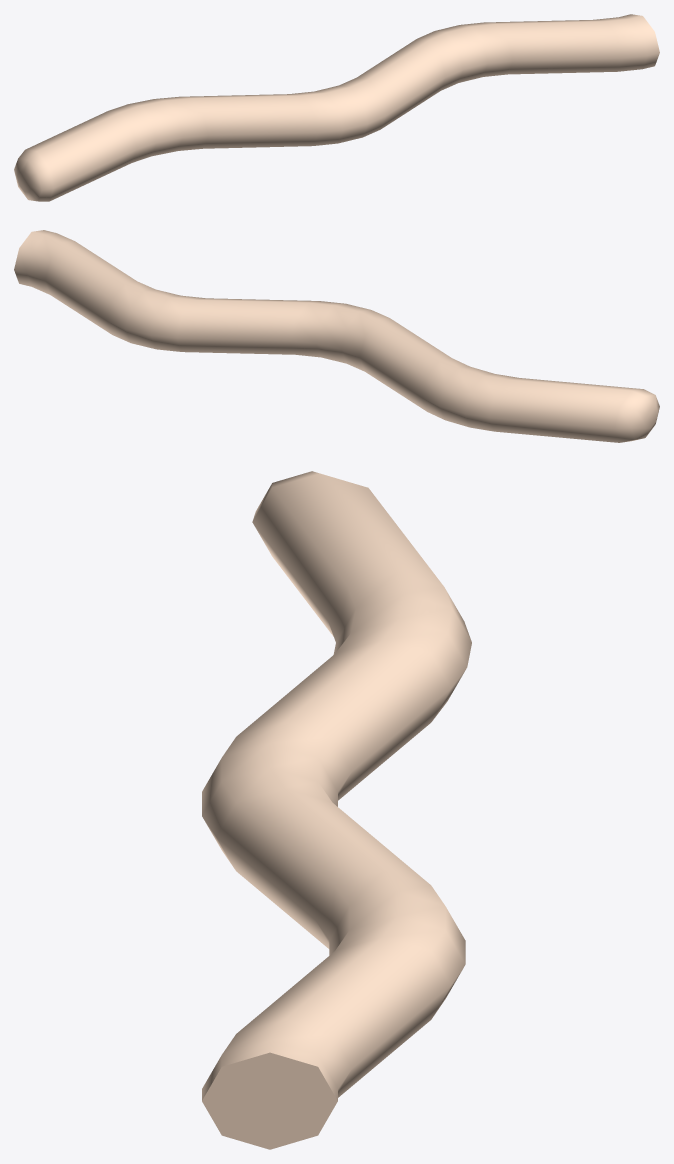
Rendered from Souse_half.004.fbx.
3 renders of one model, top to bottom at view 1: azimuth 30°, elevation 25°; view 2: azimuth 150°, elevation 25°; view 3: azimuth 270°, elevation 25°, orthographic. The views are drawn at different scales.
Parts seen in each view (by area): view 1: Souse_half.004; view 2: Souse_half.004; view 3: Souse_half.004.
Part boxes in pixels (box(x1,y1,x2,y2)): Souse_half.004: box(14, 14, 659, 201); Souse_half.004: box(14, 230, 659, 442); Souse_half.004: box(202, 471, 471, 1149).
Size of the model in its own units: 76.28 by 14.66 by 5.82.
